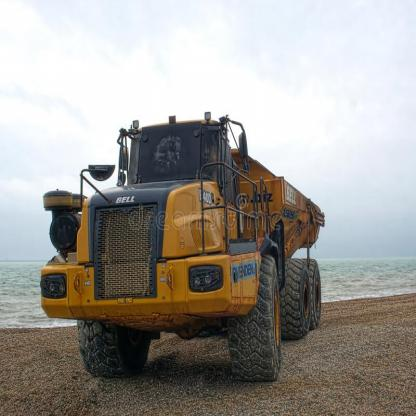dump_truck: (34, 106, 349, 380)
